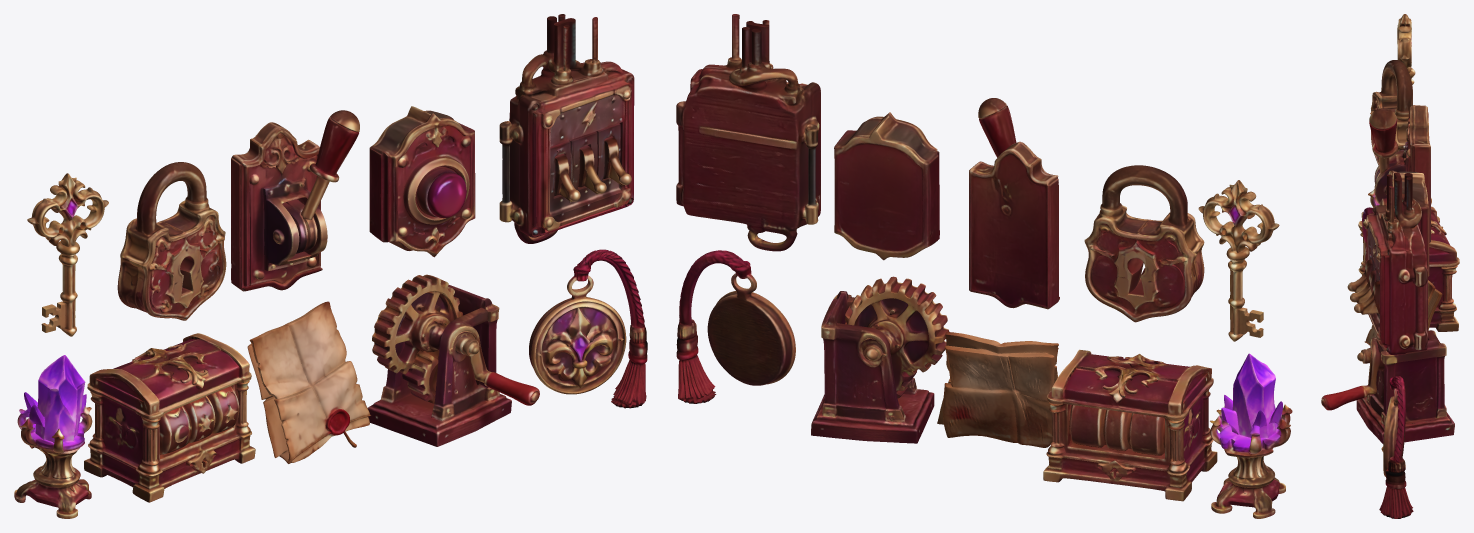
The model's file is puzzle-props.glb.
3 renders of one model, left to right at view 1: azimuth 30°, elevation 25°; view 2: azimuth 150°, elevation 25°; view 3: azimuth 270°, elevation 25°, orthographic. The views are drawn at different scales.
Visible parts, largest first — view 1: model; view 2: model; view 3: model.
Part boxes in pixels (x1,y1,x2,y2): model: (14,14,647,518); model: (676,14,1292,518); model: (1321,14,1459,518).
Size of the model in its own units: 1.9 by 1.15 by 0.4627.
Materials: 1 (1 with a texture image).
